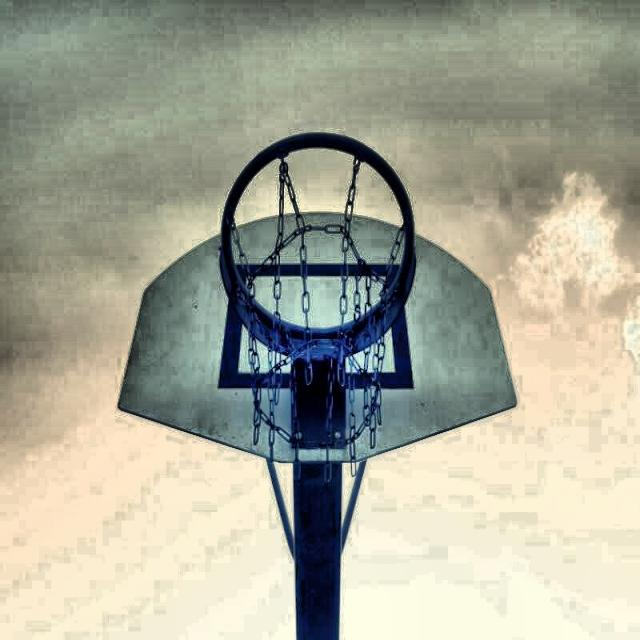rim: (225, 134, 414, 481)
